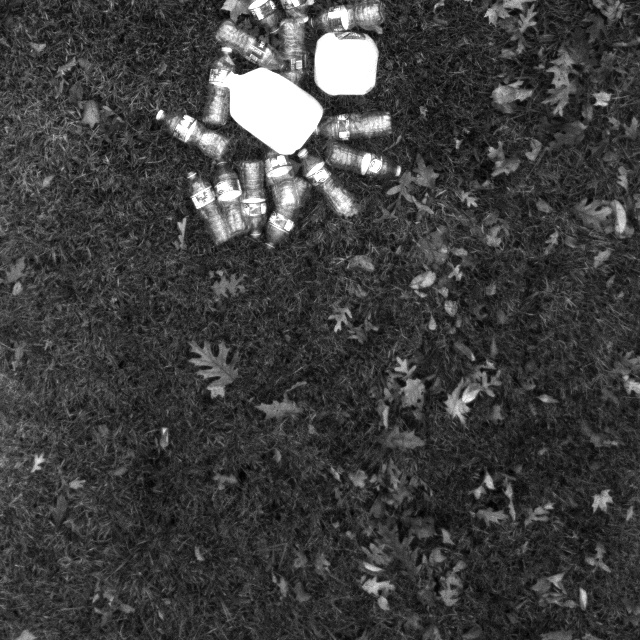bottle: (294, 146, 358, 222), (322, 139, 408, 189), (262, 173, 315, 253), (214, 18, 288, 73), (153, 111, 232, 160), (258, 149, 308, 224), (195, 46, 239, 128), (184, 171, 231, 247), (237, 155, 271, 242), (278, 14, 315, 93), (213, 156, 246, 243), (318, 110, 402, 143)
can: (221, 62, 328, 156), (312, 31, 382, 101)
